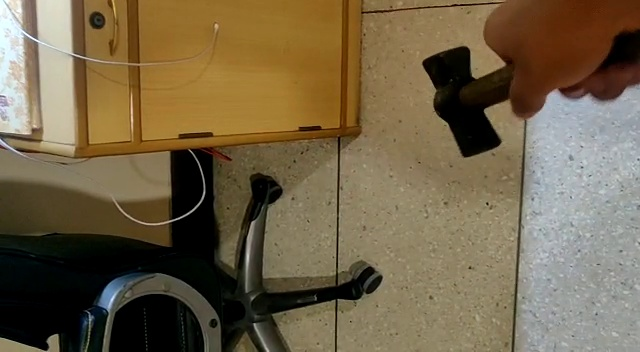hammer: (418, 43, 640, 160)
